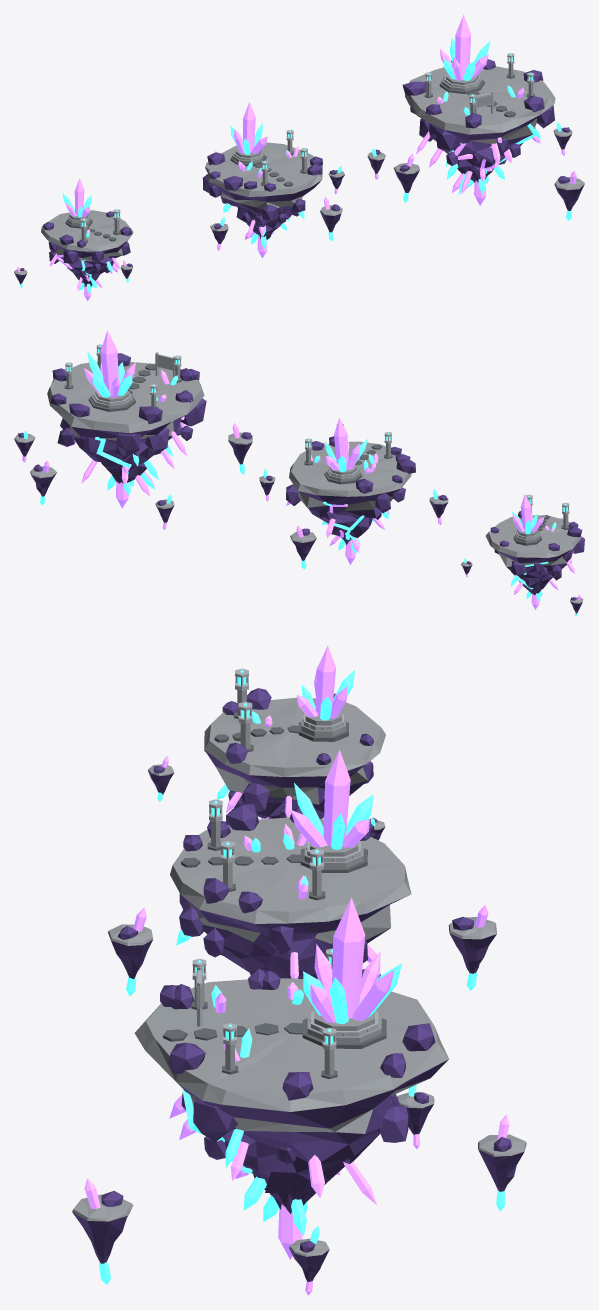
The model's file is crystal-sky-islets.glb.
3 views of the same model, one above another, from view 1: azimuth 30°, elevation 25°; view 2: azimuth 150°, elevation 25°; view 3: azimuth 270°, elevation 25° (orthographic). The views are drawn at different scales.
Parts seen in each view (by area): view 1: Islet_Large_Rock, Islet_Medium_Rock, Islet_Small_Rock, Islet_Large, Islet_Large_CrystalVeins, Islet_Large_CrystalCluster, Islet_Large_Decor, Islet_Medium, Islet_Medium_CrystalCluster, Islet_Medium_Decor, Islet_Small_CrystalVeins, Islet_Large_Pedestal (+4 smaller); view 2: Islet_Large_Rock, Islet_Medium_Rock, Islet_Small_Rock, Islet_Large, Islet_Large_CrystalCluster, Islet_Large_CrystalVeins, Islet_Large_Decor, Islet_Medium, Islet_Medium_CrystalCluster, Islet_Medium_CrystalVeins, Islet_Large_Pedestal, Islet_Small_CrystalCluster (+3 smaller); view 3: Islet_Large_Rock, Islet_Medium_Rock, Islet_Small_Rock, Islet_Large, Islet_Large_CrystalCluster, Islet_Large_CrystalVeins, Islet_Medium_CrystalCluster, Islet_Medium, Islet_Large_Decor, Islet_Medium_Decor, Islet_Large_Pedestal, Islet_Small_CrystalCluster (+5 smaller).
Boxes of the visible parts, x1,y1,x2,y2 form: Islet_Large_Rock: (402, 59, 555, 182); Islet_Medium_Rock: (202, 142, 322, 239); Islet_Small_Rock: (41, 210, 133, 286); Islet_Large: (367, 122, 584, 220); Islet_Large_CrystalVeins: (416, 123, 541, 205); Islet_Large_CrystalCluster: (439, 15, 490, 80); Islet_Large_Decor: (424, 53, 534, 117); Islet_Medium: (205, 150, 344, 250); Islet_Medium_CrystalCluster: (230, 102, 267, 154); Islet_Medium_Decor: (254, 129, 307, 186); Islet_Small_CrystalVeins: (49, 253, 120, 301); Islet_Large_Pedestal: (439, 74, 484, 93); Islet_Large_Rock: (47, 353, 206, 483); Islet_Medium_Rock: (286, 436, 415, 544); Islet_Small_Rock: (485, 511, 584, 594); Islet_Large: (14, 423, 252, 529); Islet_Large_CrystalCluster: (84, 330, 135, 397); Islet_Large_CrystalVeins: (67, 416, 187, 508); Islet_Large_Decor: (64, 344, 181, 407); Islet_Medium: (259, 468, 448, 569); Islet_Medium_CrystalCluster: (324, 418, 367, 471); Islet_Medium_CrystalVeins: (286, 501, 389, 564); Islet_Large_Pedestal: (88, 390, 135, 411); Islet_Small_CrystalCluster: (512, 494, 544, 533); Islet_Large_Rock: (134, 969, 448, 1213); Islet_Medium_Rock: (170, 804, 411, 979); Islet_Small_Rock: (204, 688, 385, 818); Islet_Large: (72, 1085, 526, 1295); Islet_Large_CrystalCluster: (303, 897, 401, 1023); Islet_Large_CrystalVeins: (169, 1089, 396, 1259); Islet_Medium_CrystalCluster: (290, 750, 373, 849); Islet_Medium: (108, 905, 496, 996); Islet_Large_Decor: (163, 948, 337, 1078); Islet_Medium_Decor: (181, 799, 325, 900); Islet_Large_Pedestal: (302, 1009, 386, 1048); Islet_Small_CrystalCluster: (297, 645, 355, 720).
Size of the model in its own units: 86.85 by 27.45 by 31.28.
